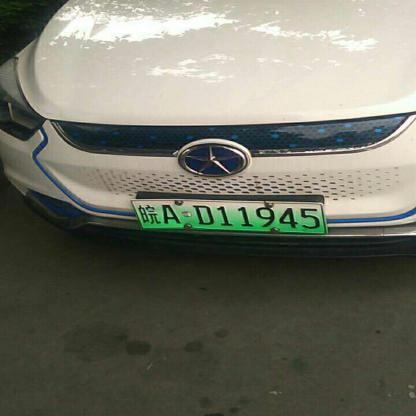lp: (131, 200, 325, 232)
